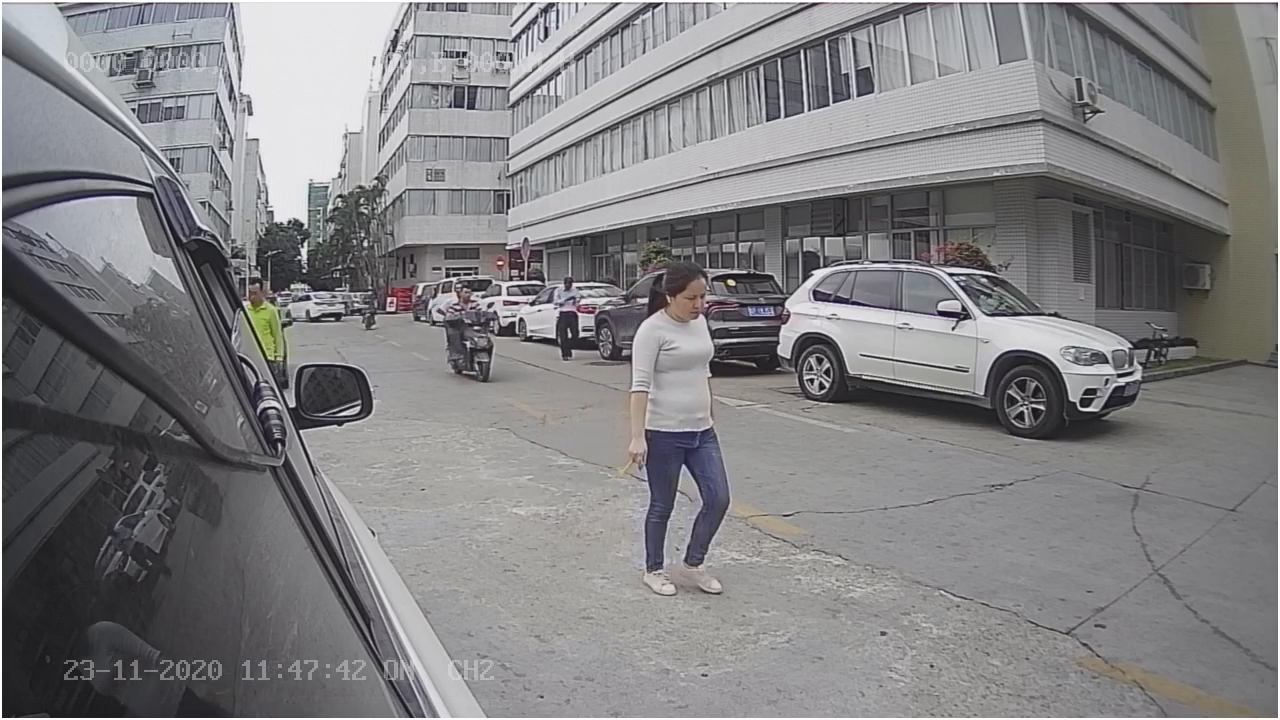person: (625, 259, 741, 603)
